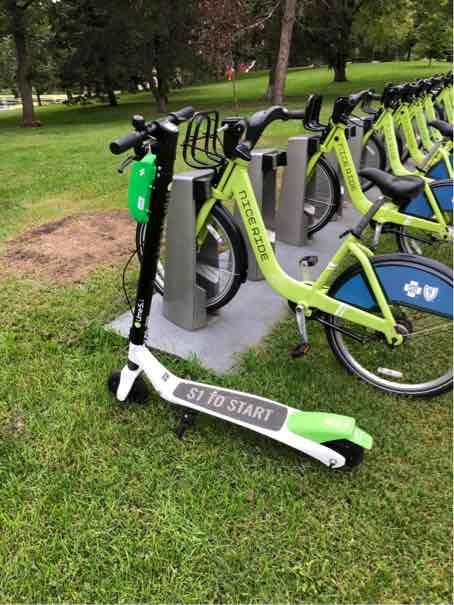scooter: (87, 92, 373, 478)
